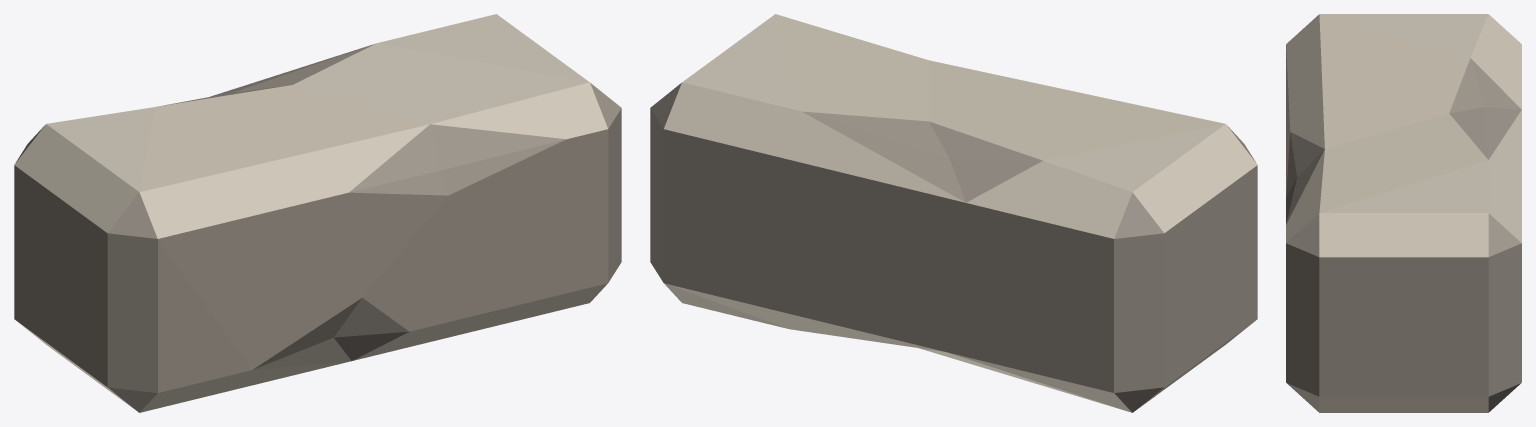
The model's file is Rock_Border.fbx.
3 renders of one model, left to right at view 1: azimuth 30°, elevation 25°; view 2: azimuth 150°, elevation 25°; view 3: azimuth 270°, elevation 25°, orthographic. The views are drawn at different scales.
Visible parts, largest first — view 1: Rock_Border; view 2: Rock_Border; view 3: Rock_Border.
Boxes of the visible parts, left/top/right/bottom form: Rock_Border: left=14, top=14, right=621, bottom=412; Rock_Border: left=650, top=14, right=1257, bottom=412; Rock_Border: left=1286, top=14, right=1521, bottom=412.
Bounding box in the file's own units: 8.07 × 3.31 × 3.54.
